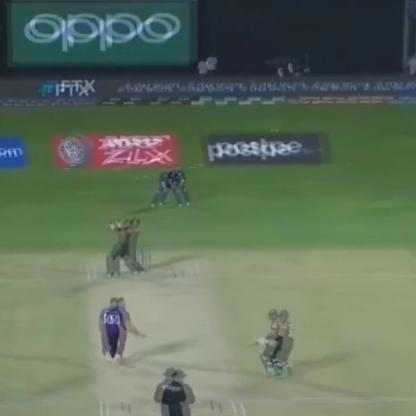ball: (267, 125, 275, 133), (274, 126, 280, 136)
pitch: (79, 249, 245, 416)
